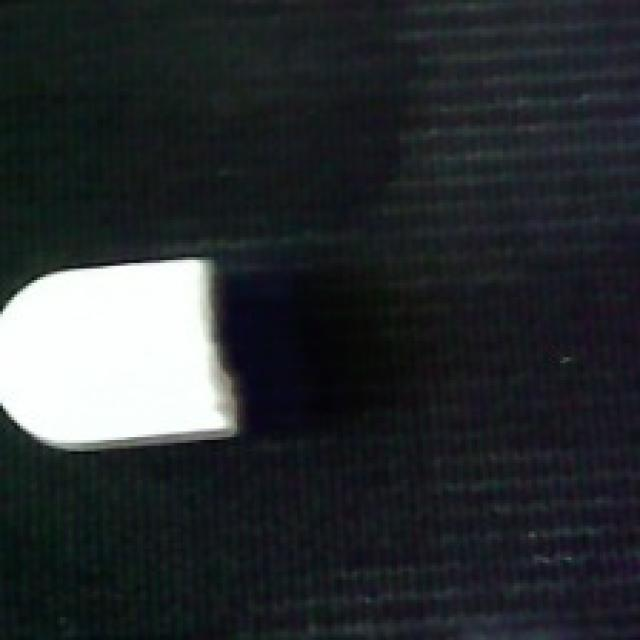defected: (0, 251, 251, 451)
